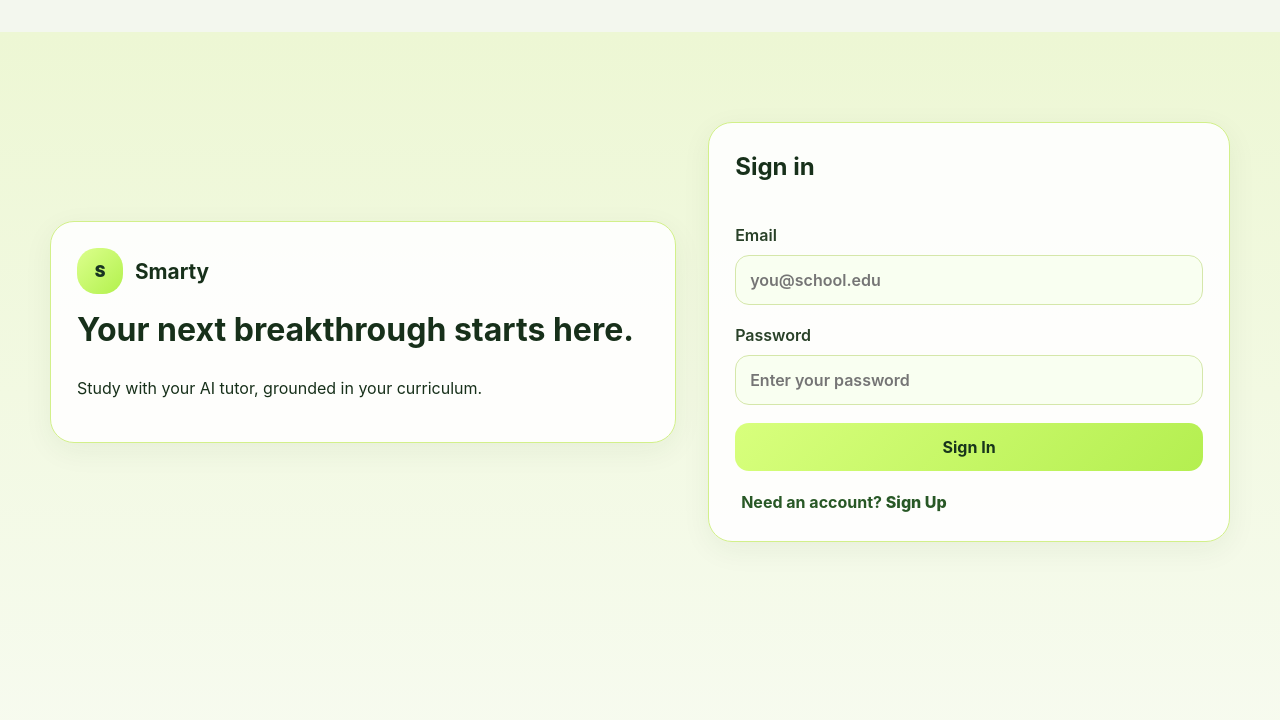
login screen › shows the server message for invalid credentials and stays on the form
This screenshot has width=1280, height=720.
Type "ada@example.com" into the field labelled "Email" at (969, 280), box [735,255,1203,305]
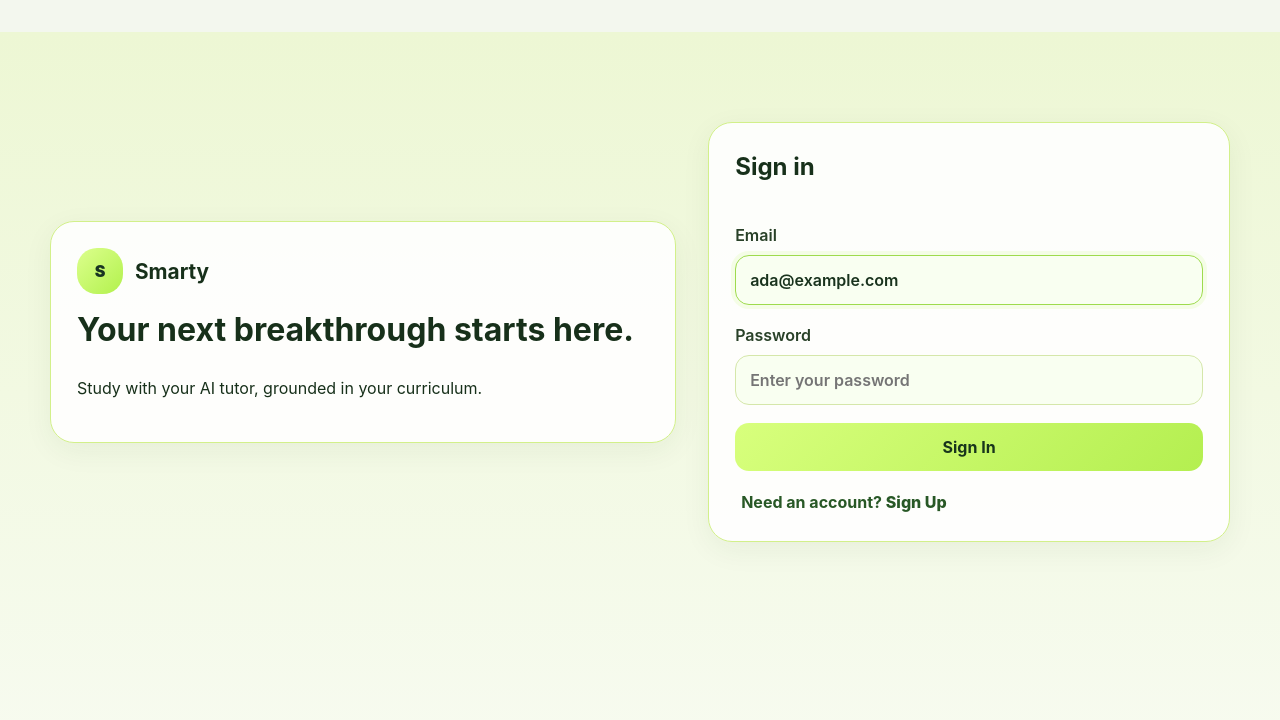
Type "wrong-password" into the password field labelled "Password" at (969, 380), box [735,355,1203,405]
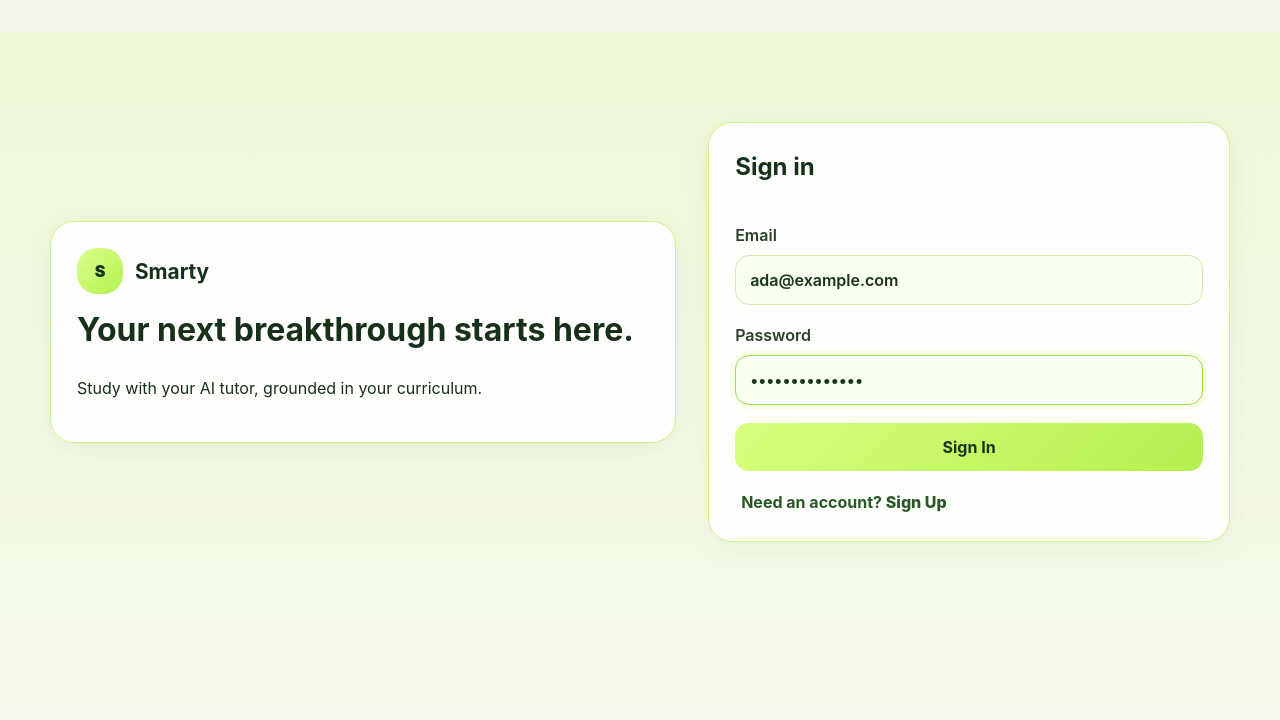
Click the button "Sign In" at (969, 447), box [735,423,1203,471]
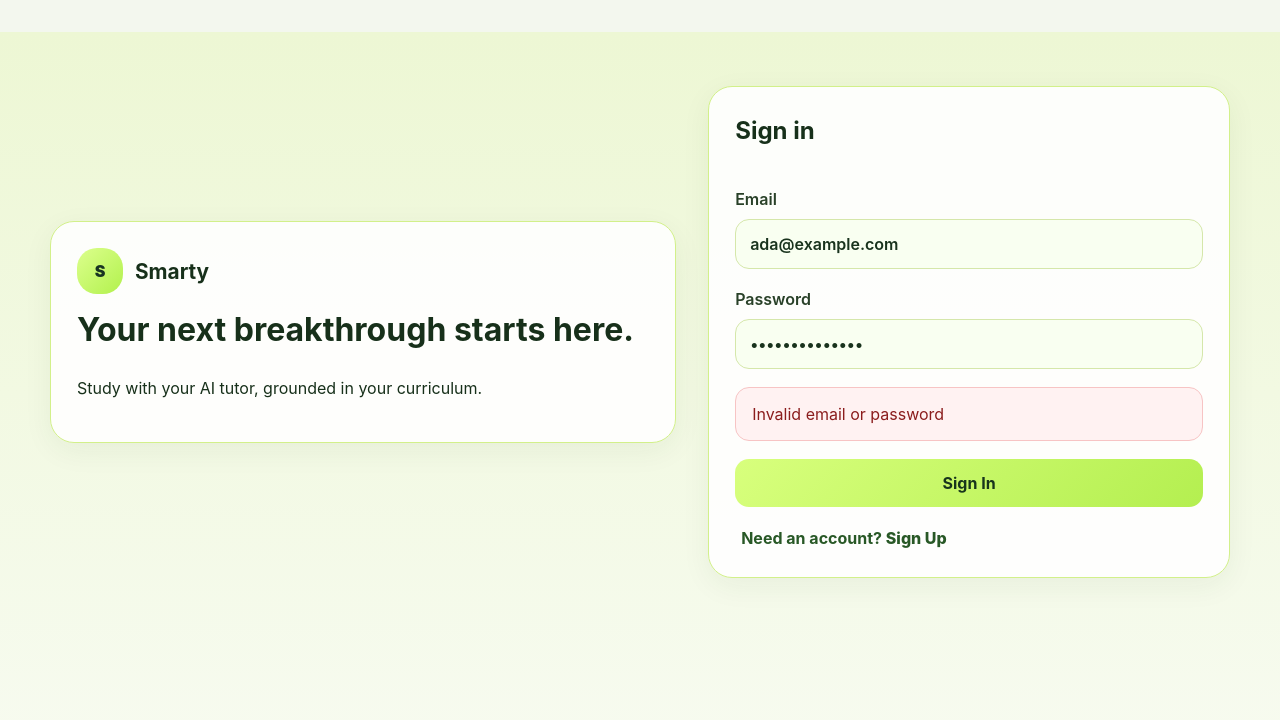
Check: the button "Sign In" is enabled, box [735,459,1203,507]
Check: the text "Invalid email or password" is shown, box [752,404,944,424]
